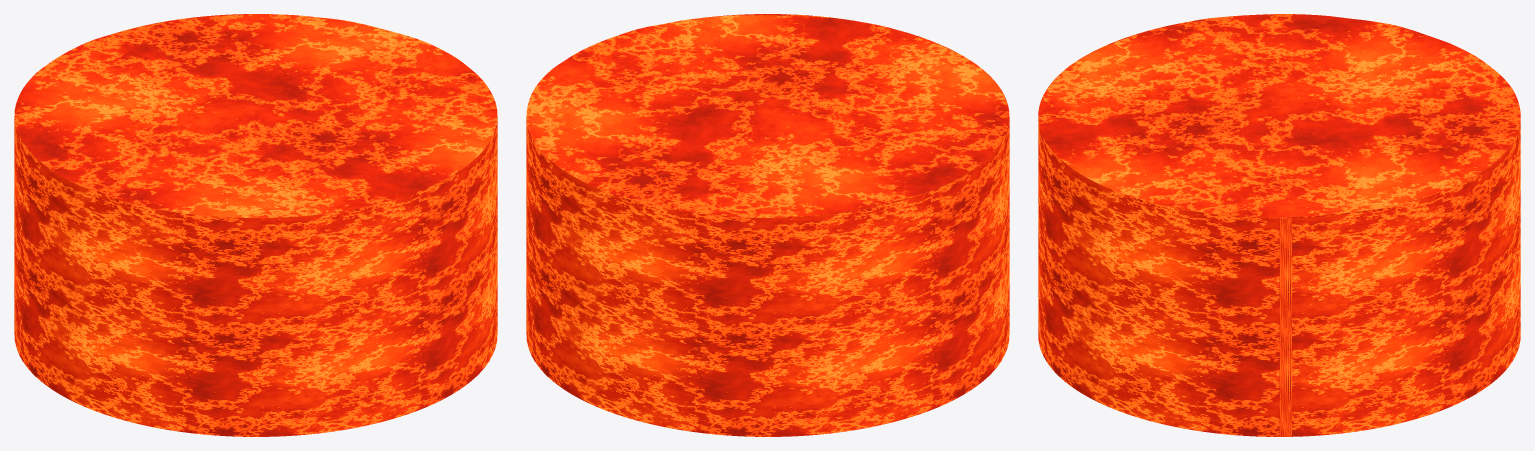
Rendered from lava_lake.glb.
3 views of the same model, side by side, from view 1: azimuth 30°, elevation 25°; view 2: azimuth 150°, elevation 25°; view 3: azimuth 270°, elevation 25° (orthographic).
Bounding box in the file's own units: 28 × 14.4 × 28.
